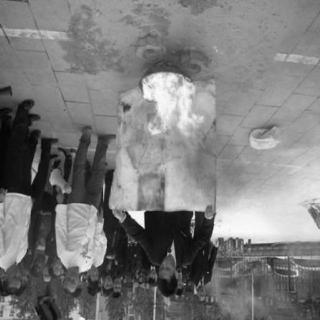Fire: (127, 63, 205, 160)
